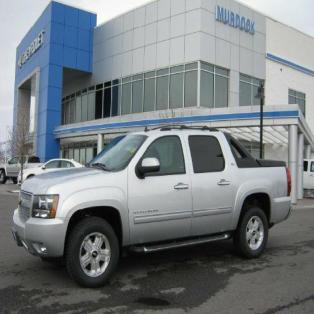Auto: (11, 125, 292, 290)
